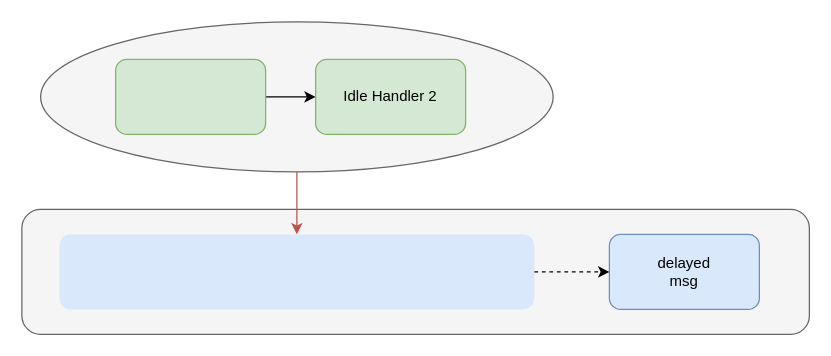
This 831x356 diagram has some shape labels left out. The shapes that lost their labels are listed below. From the top down, each one's centre as x and y in pixels, then its label:
point (190, 96): Idle Handler 1
point (296, 271): Idle status
